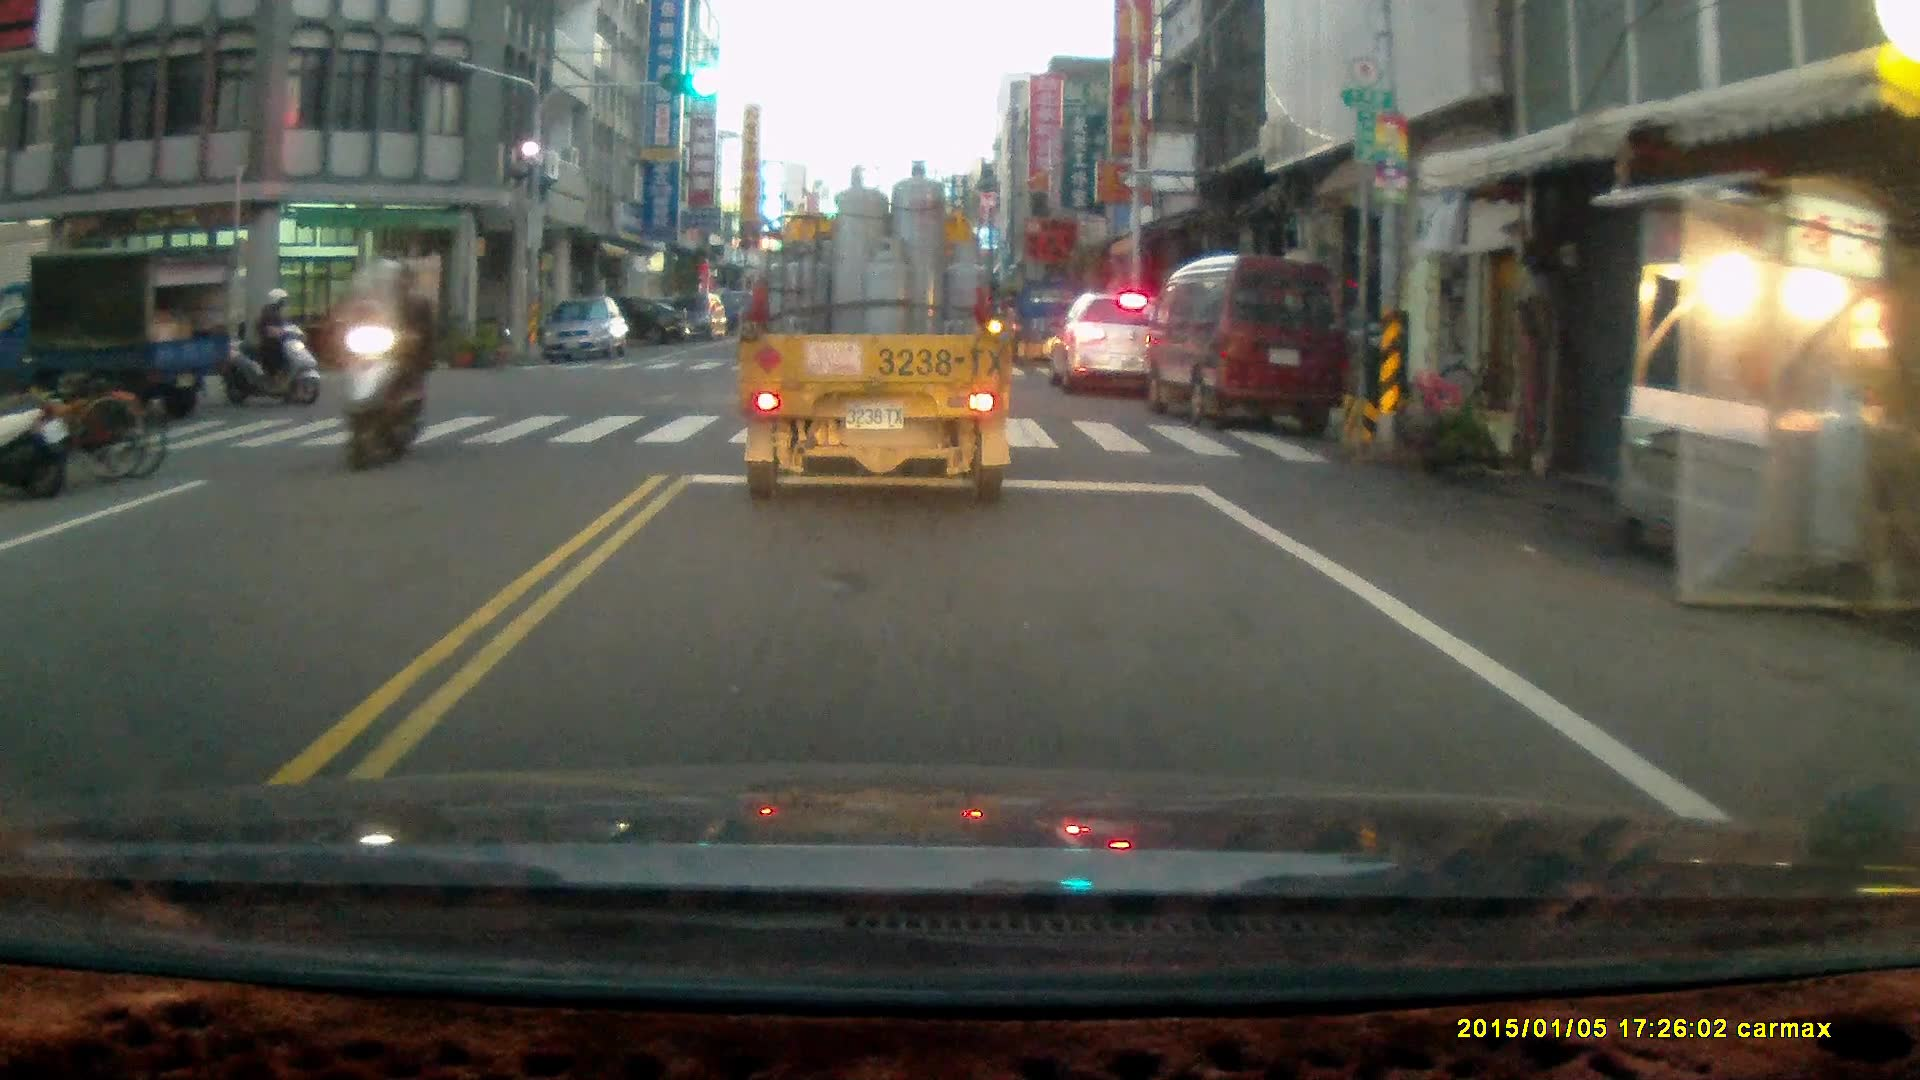rider: (338, 252, 439, 464), (219, 284, 321, 405)
vehicle: (740, 168, 1015, 507), (1, 247, 222, 425), (1144, 256, 1353, 432), (1044, 290, 1180, 402), (566, 299, 689, 357), (542, 296, 634, 362), (644, 293, 727, 341)
